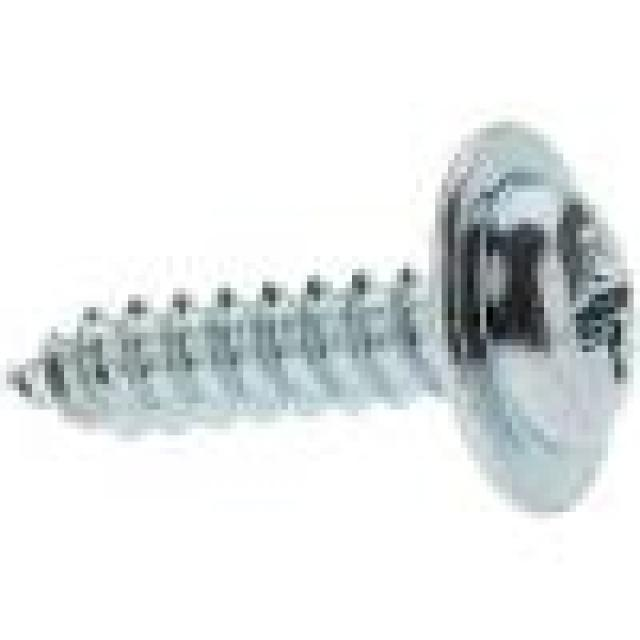Screw: (13, 122, 634, 512)
